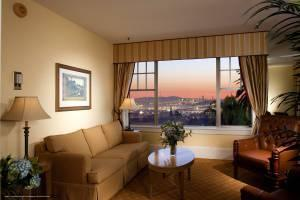window: (126, 55, 252, 128)
